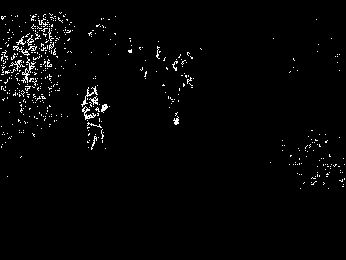person: (82, 86, 108, 157)
